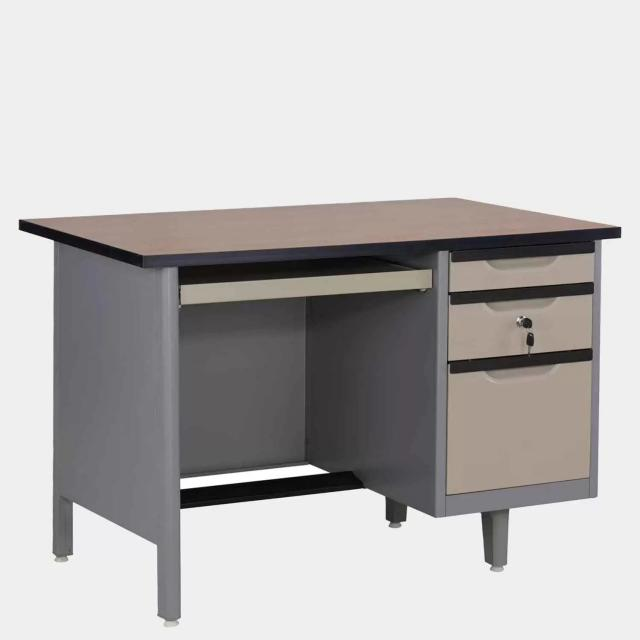table: (8, 172, 640, 625)
